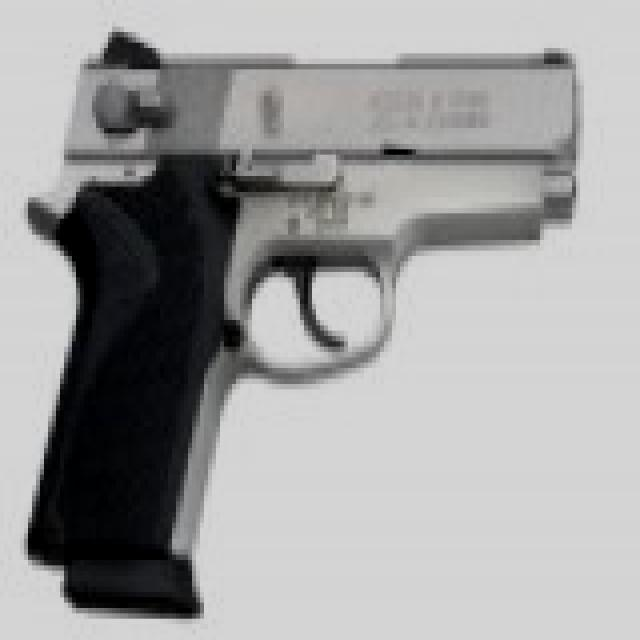pistol: (20, 27, 580, 613)
